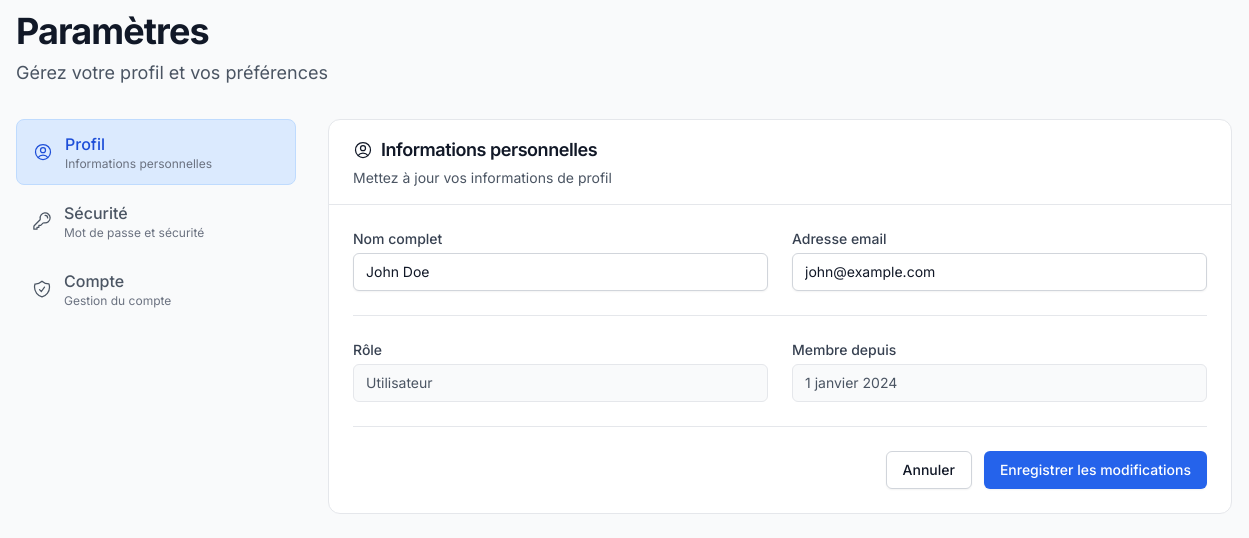
Test: SettingsPage › Onglet Compte › affiche les statistiques du compte
Click the text "Compte" at (94, 281), box [64,271,124,291]
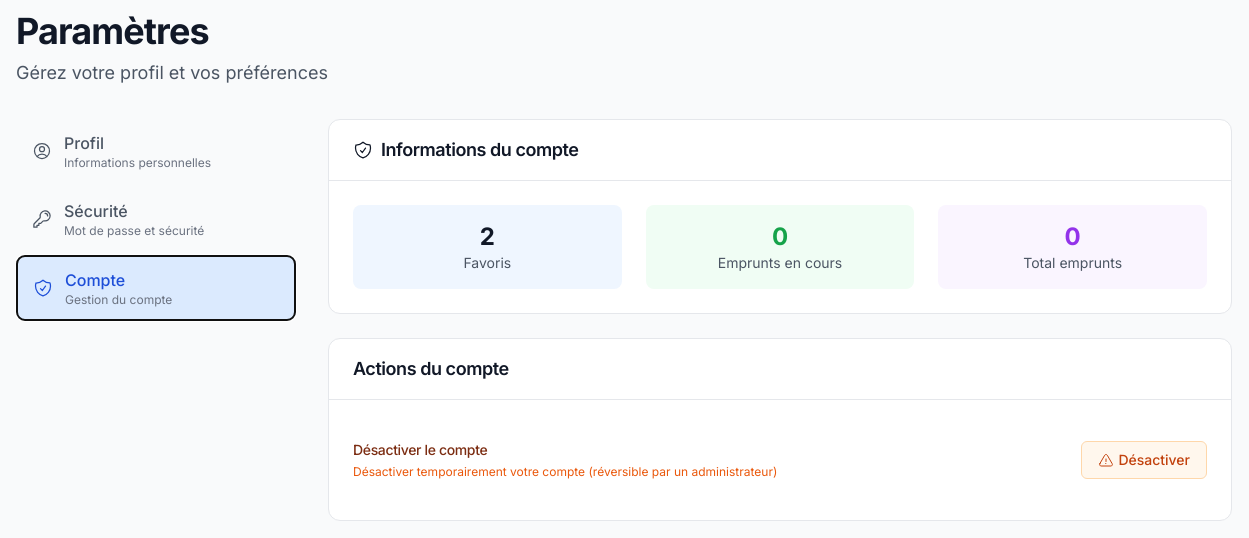
Expected: the text "0" is shown 2 times, [772,222,788,251]; [1065,222,1081,251]
Expected: the text "Emprunts en cours" is shown, [718,254,842,271]
Expected: the text "Total emprunts" is shown, [1023,254,1122,271]
